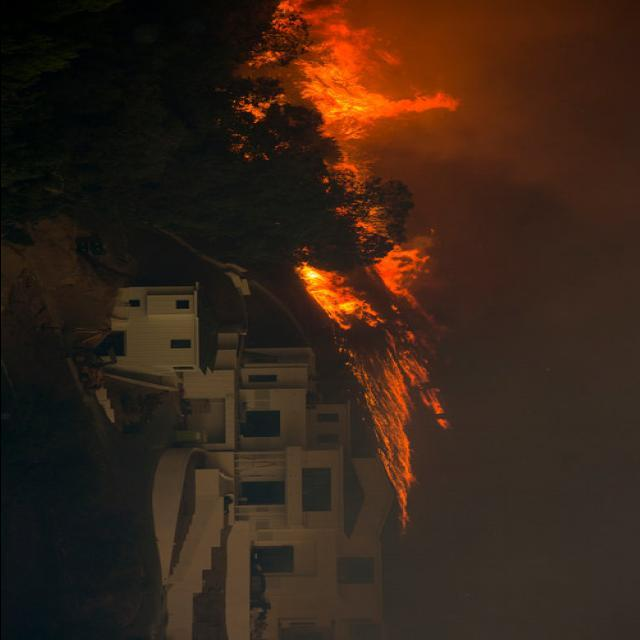Fire: (220, 1, 502, 491)
